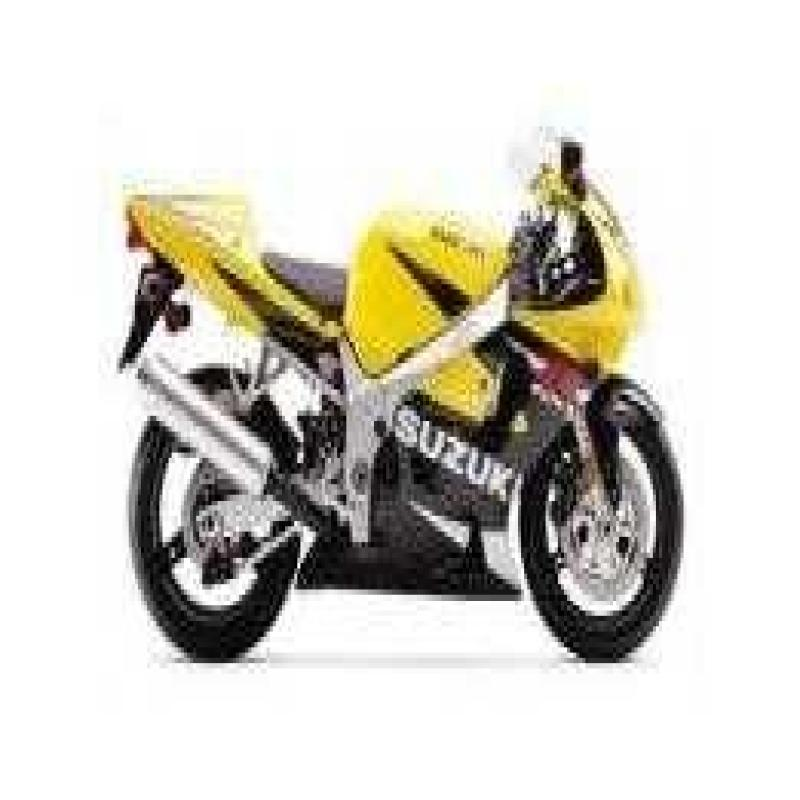bike: (99, 74, 693, 687)
